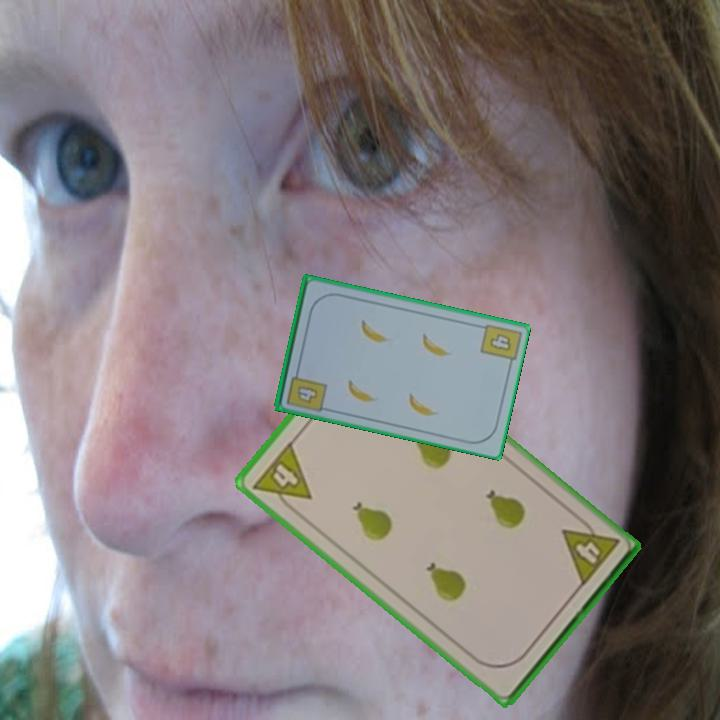4b: (283, 364, 329, 413), (486, 330, 514, 353)
4p: (248, 438, 315, 518), (558, 511, 622, 590)
